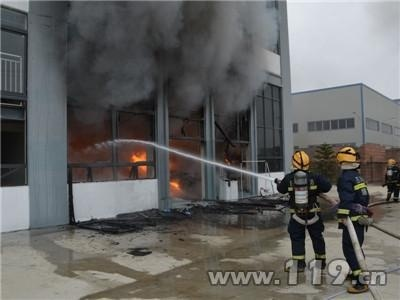fire: (129, 148, 149, 175), (169, 177, 182, 189)
